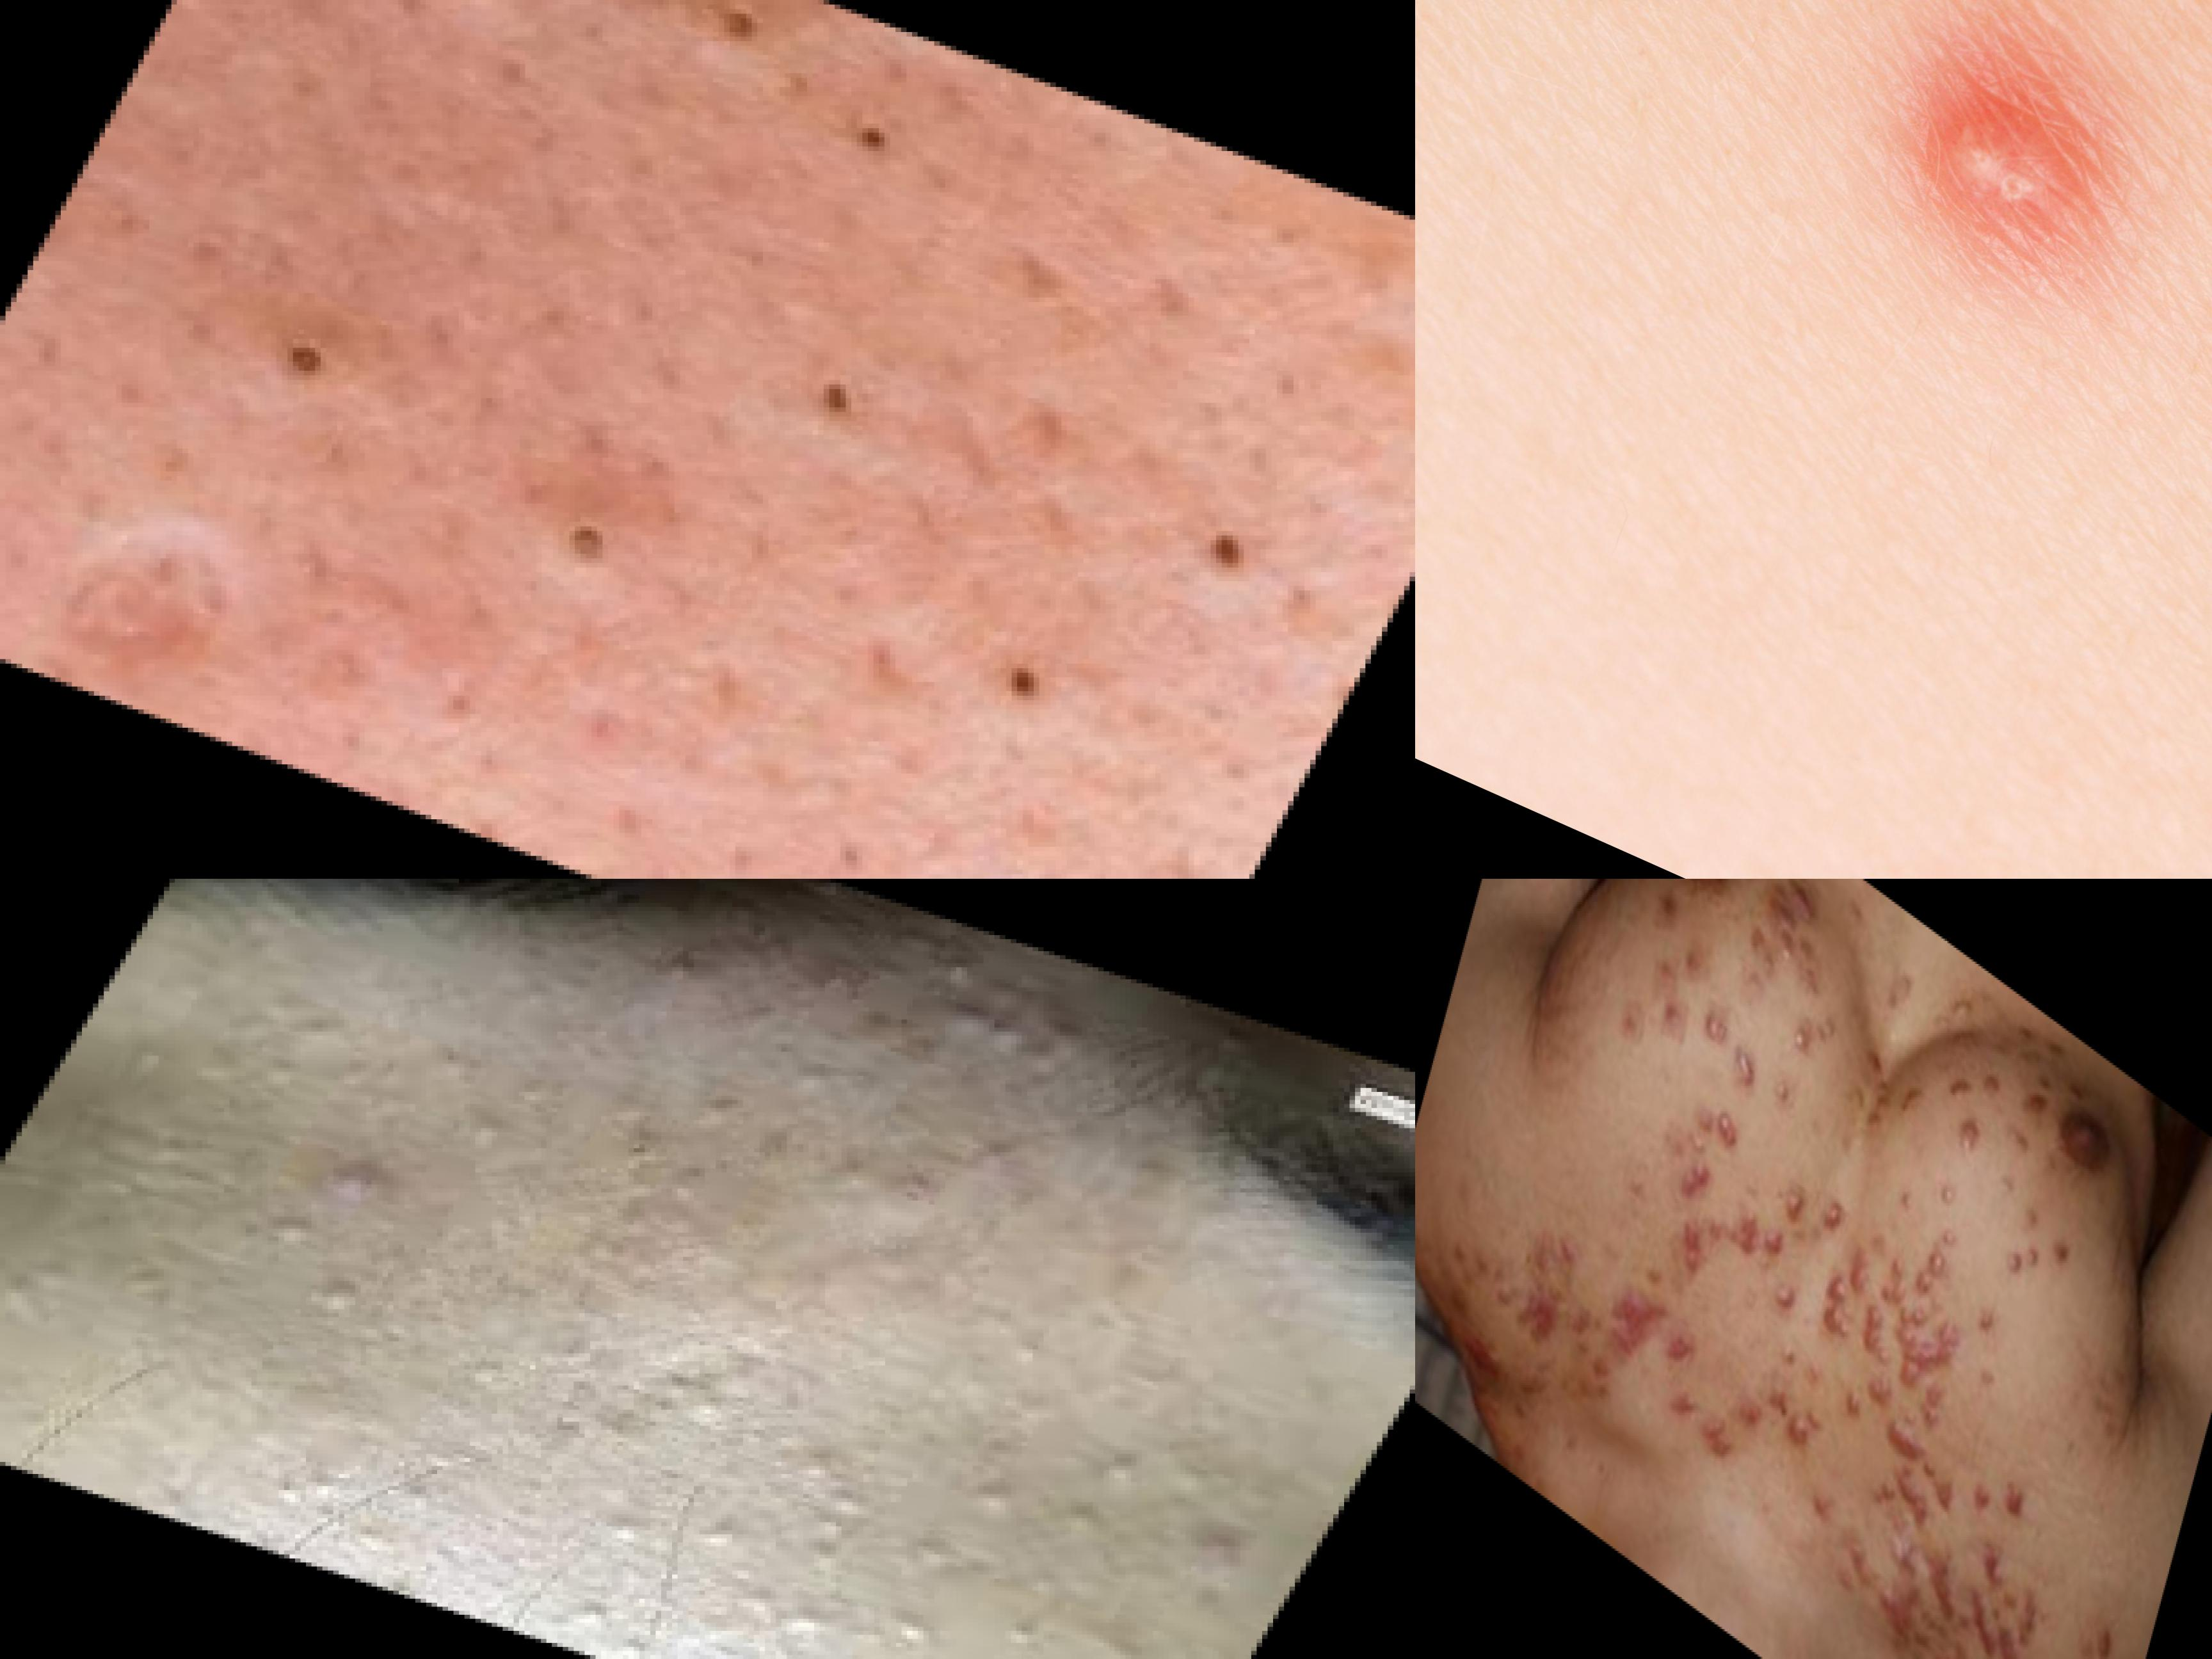acne_scars: (0, 427, 394, 760)
blackhead: (831, 540, 1245, 838), (188, 246, 470, 460), (1078, 416, 1312, 647), (420, 0, 819, 132), (711, 317, 937, 500), (813, 31, 979, 200), (824, 1117, 993, 1253), (561, 1107, 714, 1211), (512, 479, 650, 589)
keloid: (1503, 1187, 1683, 1441), (1850, 1255, 1980, 1441), (1827, 1521, 1940, 1659), (1759, 1316, 1878, 1443), (1672, 1164, 1768, 1314), (1750, 1164, 1829, 1317), (1959, 1530, 2048, 1659), (1958, 1441, 2043, 1561), (1662, 1364, 1743, 1476), (1841, 1039, 1918, 1155), (1928, 1061, 2001, 1180), (1815, 1232, 1876, 1370), (1679, 1084, 1754, 1195), (1695, 1000, 1768, 1098), (1761, 1375, 1832, 1473), (1871, 1460, 1939, 1551), (1756, 880, 1831, 960), (1655, 1300, 1707, 1384), (1876, 1406, 1933, 1481), (1925, 1628, 2034, 1659), (1780, 1006, 1824, 1072), (2001, 1229, 2045, 1293), (2076, 1607, 2123, 1659), (1766, 1068, 1803, 1131)
papular: (1785, 0, 2212, 378)
whitehead: (859, 934, 1170, 1134), (153, 943, 421, 1150), (1014, 1413, 1200, 1570), (421, 1030, 585, 1180), (766, 1471, 892, 1584), (552, 1483, 683, 1584), (273, 1249, 399, 1354), (711, 1572, 859, 1659), (230, 1173, 334, 1274), (932, 1473, 1031, 1541), (671, 1511, 752, 1575), (864, 1607, 956, 1659)
